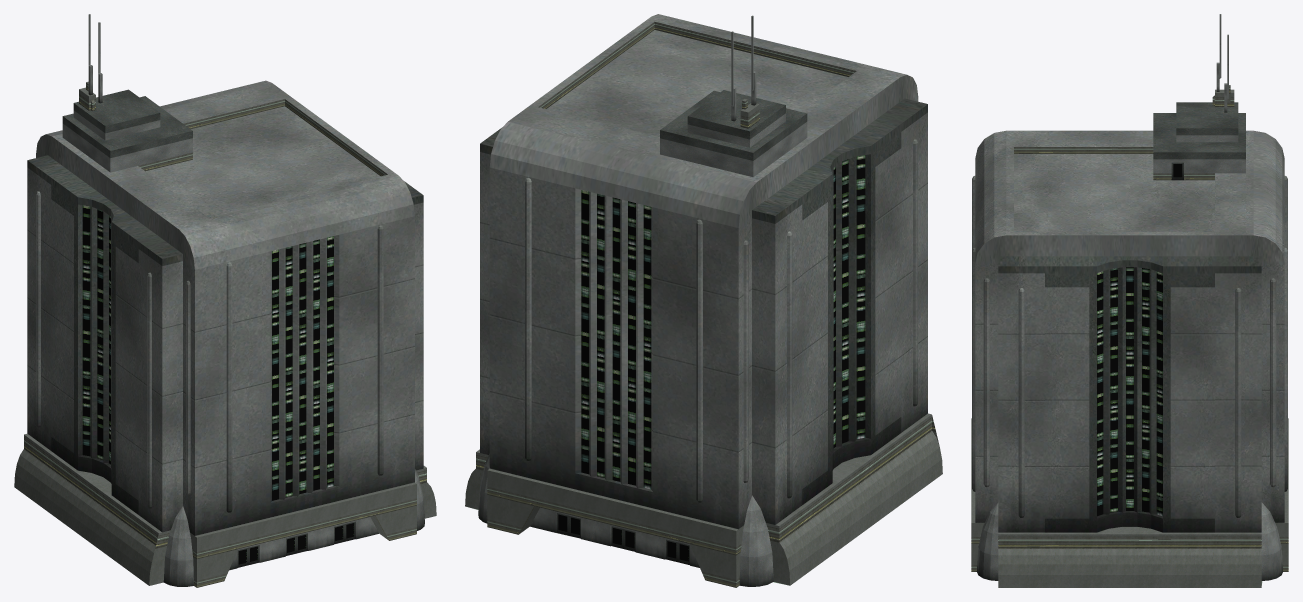
Rendered from thm_corl_imprv_building_s03_l1.fbx.
3 views of the same model, side by side, from view 1: azimuth 30°, elevation 25°; view 2: azimuth 150°, elevation 25°; view 3: azimuth 270°, elevation 25° (orthographic). The views are drawn at different scales.
Parts seen in each view (by area): view 1: mesh_node; view 2: mesh_node; view 3: mesh_node.
Boxes of the visible parts, bbox=[...] form: mesh_node: bbox=[14, 14, 436, 587]; mesh_node: bbox=[465, 14, 942, 587]; mesh_node: bbox=[971, 14, 1288, 587].
Size of the model in its own units: 41.8 by 66 by 41.
